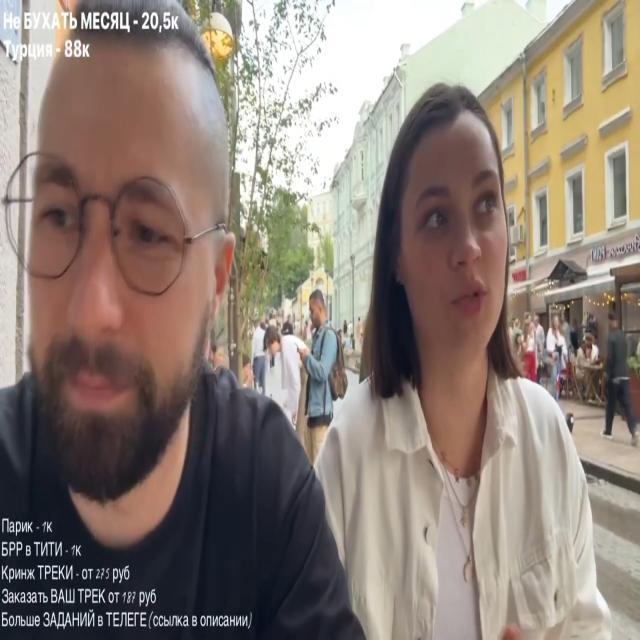Person: (0, 18, 358, 638), (286, 54, 632, 640), (296, 292, 345, 468), (253, 328, 307, 438), (600, 315, 638, 440), (574, 332, 603, 406)
